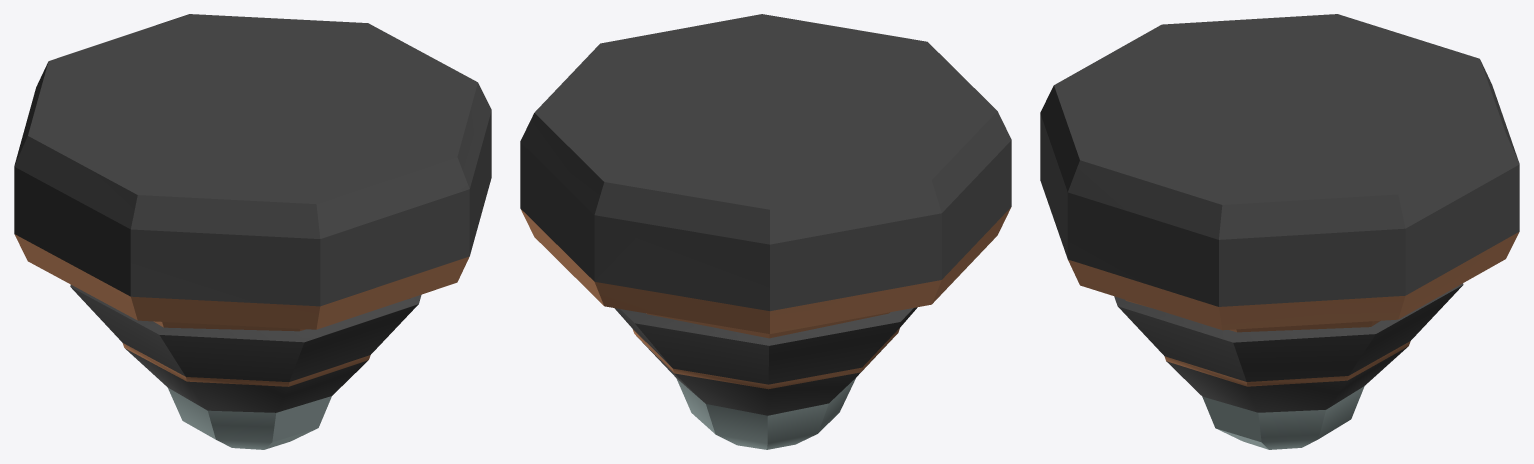
File: Tomada.fbx
The picture shows the model from 3 angles, left to right: view 1: azimuth 30°, elevation 25°; view 2: azimuth 150°, elevation 25°; view 3: azimuth 270°, elevation 25°; orthographic projection.
Parts seen in each view (by area): view 1: Plug; view 2: Plug; view 3: Plug.
Part boxes in pixels (<box>): Plug: <box>14,14,491,449</box>; Plug: <box>520,14,1011,449</box>; Plug: <box>1040,14,1519,449</box>.
Bounding box in the file's own units: 11.17 × 8.3 × 11.17.
